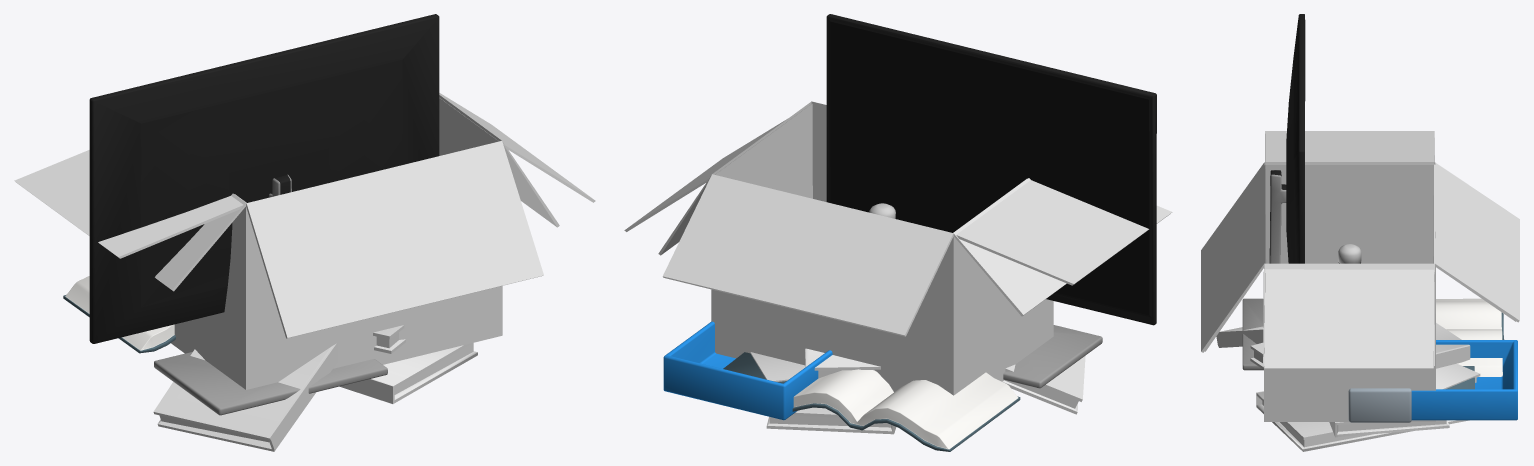
Rendered from Office_Clutter.fbx.
The picture shows the model from 3 angles, left to right: view 1: azimuth 30°, elevation 25°; view 2: azimuth 150°, elevation 25°; view 3: azimuth 270°, elevation 25°; orthographic projection. The views are drawn at different scales.
Visible parts, largest first — view 1: Computer, CardboardBox2, BookPile, CardboardBox, BookOpen; view 2: Computer, CardboardBox2, CardboardBox, BookOpen, Folder, BookPile, Book; view 3: CardboardBox, CardboardBox2, Computer, BookPile, Folder, BookOpen, TissueBox, Bottle.
Boxes of the visible parts, x1,y1,x2,y2 form: Computer: [89, 14, 439, 415]; CardboardBox2: [155, 95, 559, 389]; BookPile: [153, 325, 477, 451]; CardboardBox: [14, 93, 595, 258]; BookOpen: [63, 276, 175, 353]; Computer: [826, 14, 1156, 388]; CardboardBox2: [658, 101, 1066, 395]; CardboardBox: [624, 103, 1172, 285]; BookOpen: [792, 369, 1020, 451]; Folder: [663, 321, 832, 420]; BookPile: [750, 348, 1085, 434]; Book: [723, 352, 786, 383]; CardboardBox: [1204, 131, 1516, 368]; CardboardBox2: [1201, 162, 1519, 421]; Computer: [1242, 14, 1305, 370]; BookPile: [1216, 323, 1480, 451]; Folder: [1411, 340, 1517, 420]; BookOpen: [1436, 298, 1504, 376]; TissueBox: [1348, 388, 1411, 422]; Bottle: [1338, 244, 1361, 263].
Bounding box in the file's own units: 0.8597 × 0.5996 × 0.6066.
